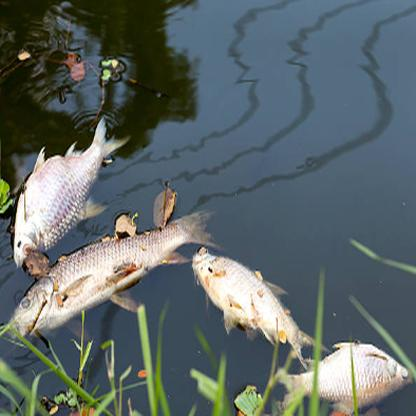deceased fish: (10, 211, 224, 341), (12, 118, 126, 268), (192, 246, 323, 376), (276, 339, 414, 411)
